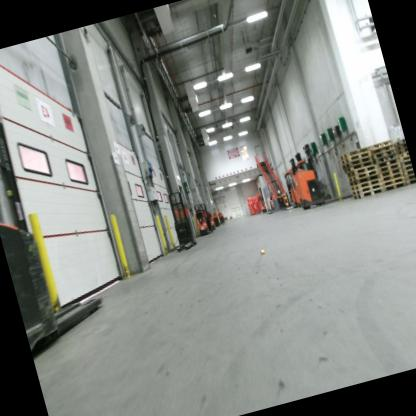forklift: (285, 148, 328, 214), (281, 148, 317, 209), (277, 155, 307, 209)
pallet: (352, 188, 384, 203), (338, 144, 369, 159), (340, 155, 373, 169), (350, 182, 382, 196), (349, 173, 380, 187), (340, 150, 371, 163), (345, 164, 376, 177), (341, 160, 374, 172), (347, 169, 378, 181), (350, 178, 381, 190), (367, 138, 395, 151), (371, 148, 397, 160), (382, 181, 407, 193), (381, 176, 406, 188), (374, 158, 400, 169), (373, 153, 399, 164), (370, 144, 396, 155), (376, 162, 401, 173), (379, 172, 403, 183), (378, 167, 402, 178), (398, 152, 410, 163), (400, 159, 411, 168), (393, 138, 405, 146), (397, 147, 408, 155), (405, 178, 416, 186), (396, 143, 407, 150), (402, 169, 413, 176), (404, 173, 415, 180), (401, 165, 412, 171)
pallet_truck: (0, 43, 123, 367), (153, 180, 202, 260), (192, 201, 216, 238), (270, 187, 290, 214), (208, 207, 221, 230), (206, 208, 217, 232), (216, 207, 229, 226), (267, 194, 277, 214), (258, 195, 268, 213)
